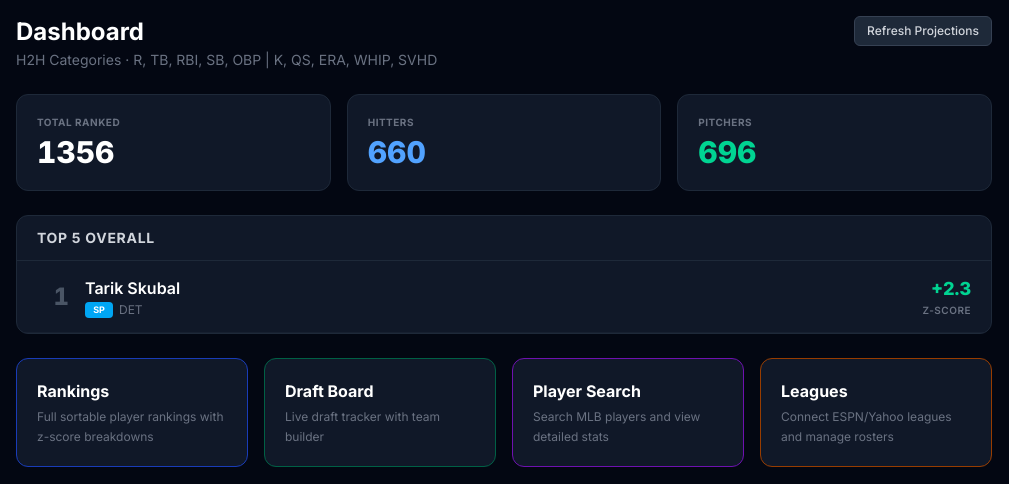
Scenario: Dashboard › surfaces the reason a refresh failed
Click the button "Refresh Projections" at (923, 31), box [854,16,992,46]
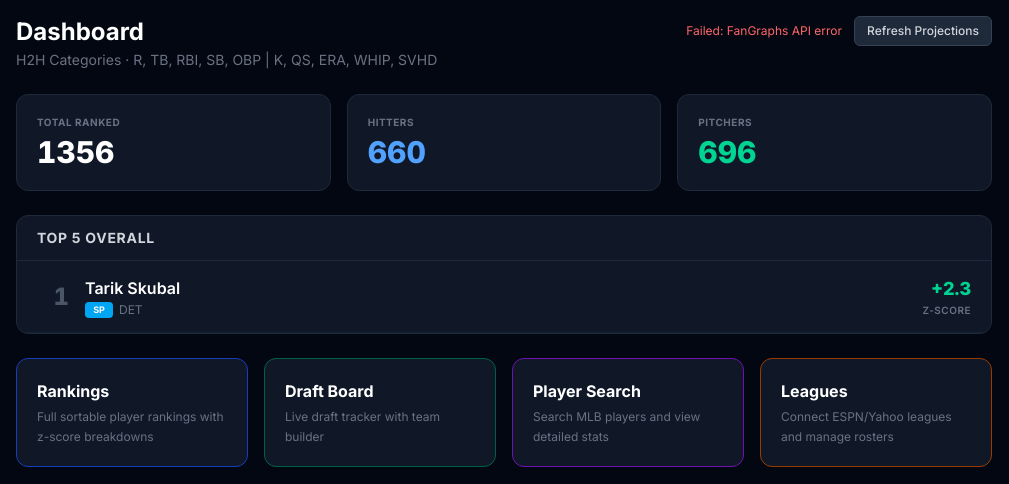
Check: the text "Failed: FanGraphs API error" is shown, box [686,23,842,39]
